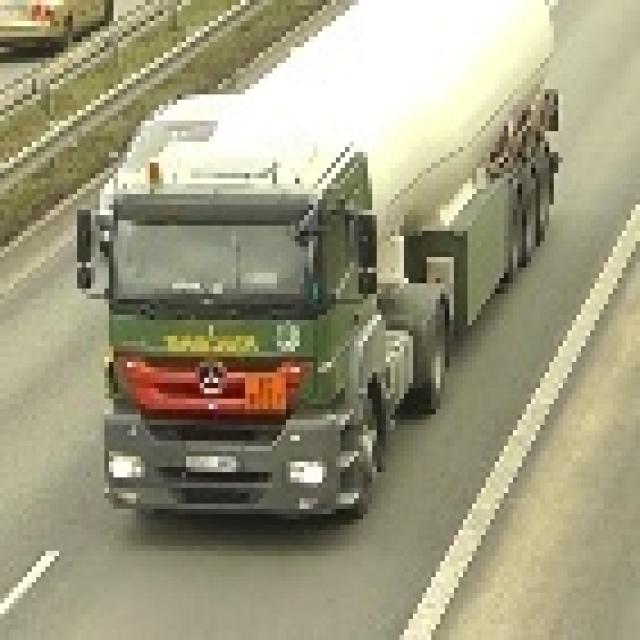TRUCK: (92, 0, 561, 518)
